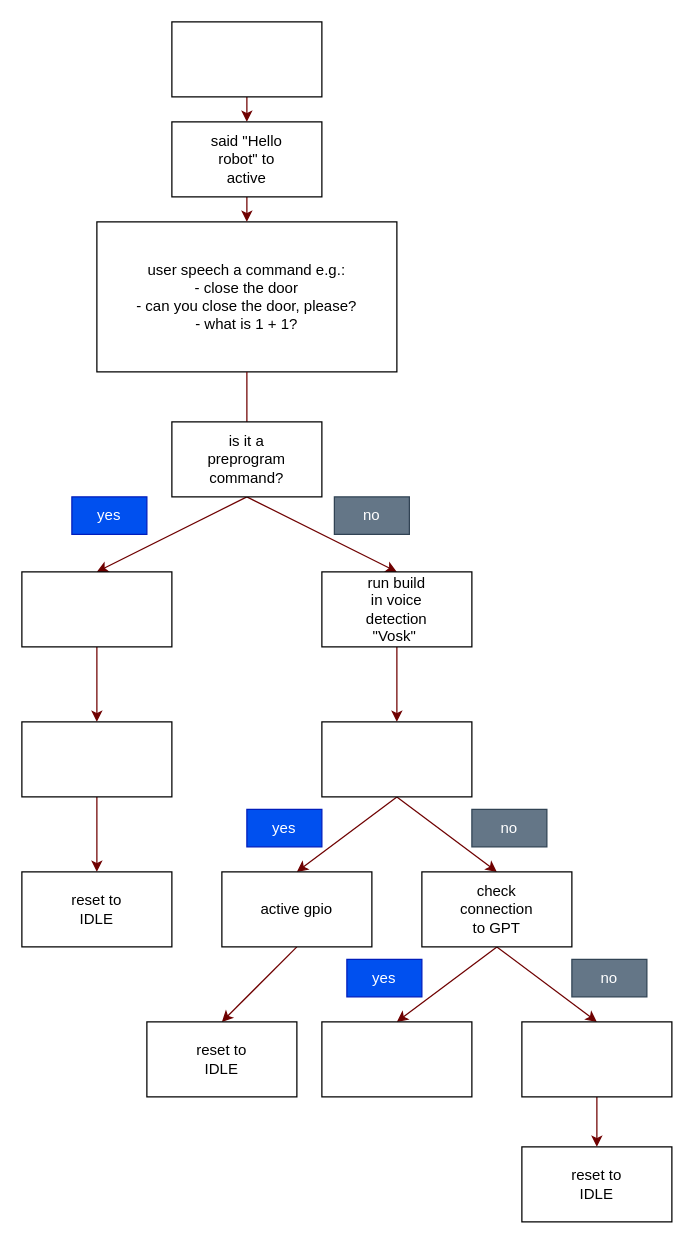
This 694x1244 diagram has some shape labels left out. Here are the shapes that lost their labels. From the top down, the centre of each, then its label:
At point (246, 59): "IDLE".
At point (96, 609): "active Recognition Sensor".
At point (96, 759): "active electric devide".
At point (396, 759): "is it a know command?".
At point (396, 1059): "spend text to gpt server".
At point (596, 1059): "sorry, i can't do that".
